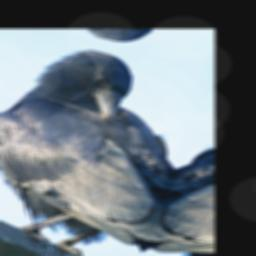Crow: (0, 35, 212, 256)
